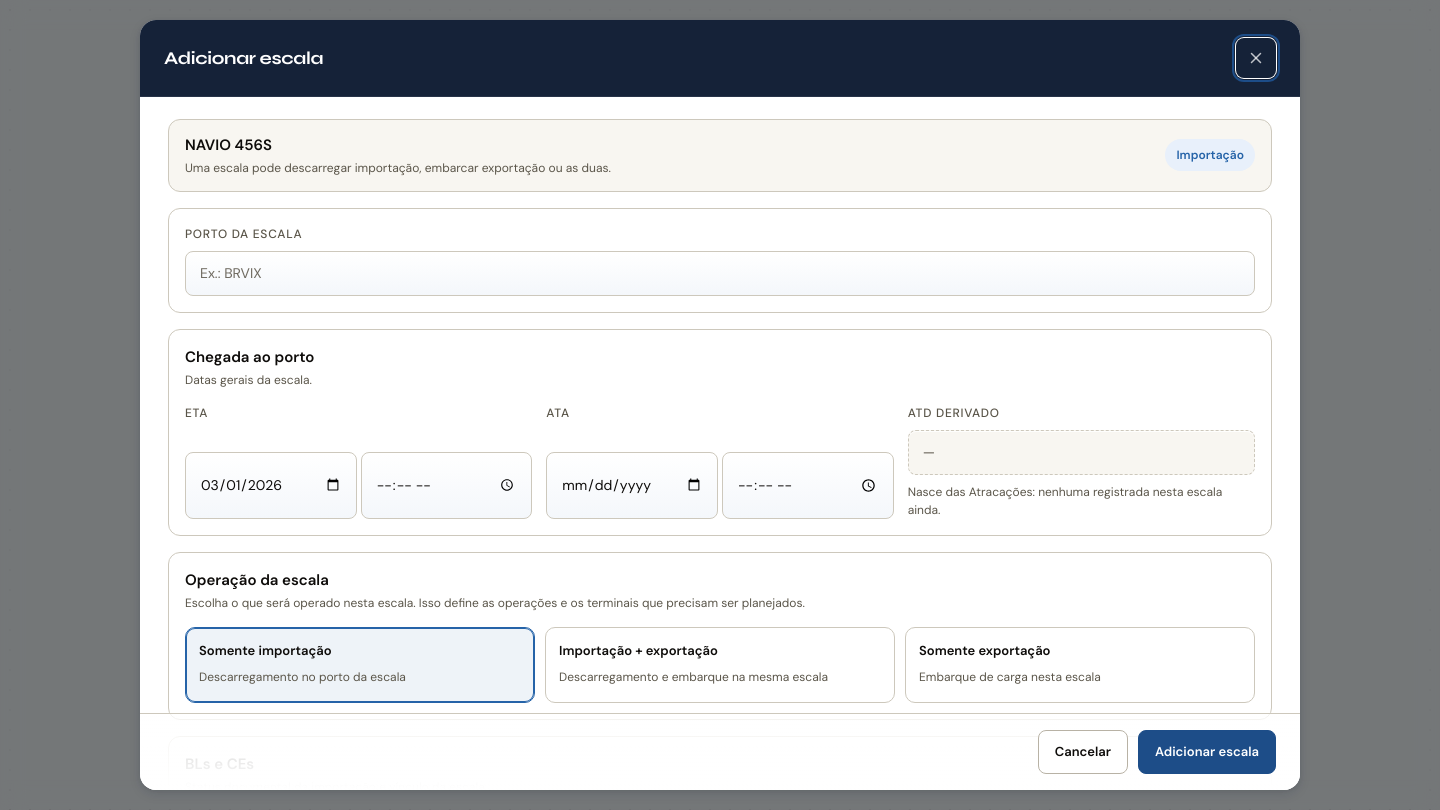
Test: EscalaModal › recusa porto estrangeiro ao criar a escala
Type "CNSHA" into the field labelled "Porto da escala" at (720, 273), box top-left (185, 251), bottom-right (1255, 296)
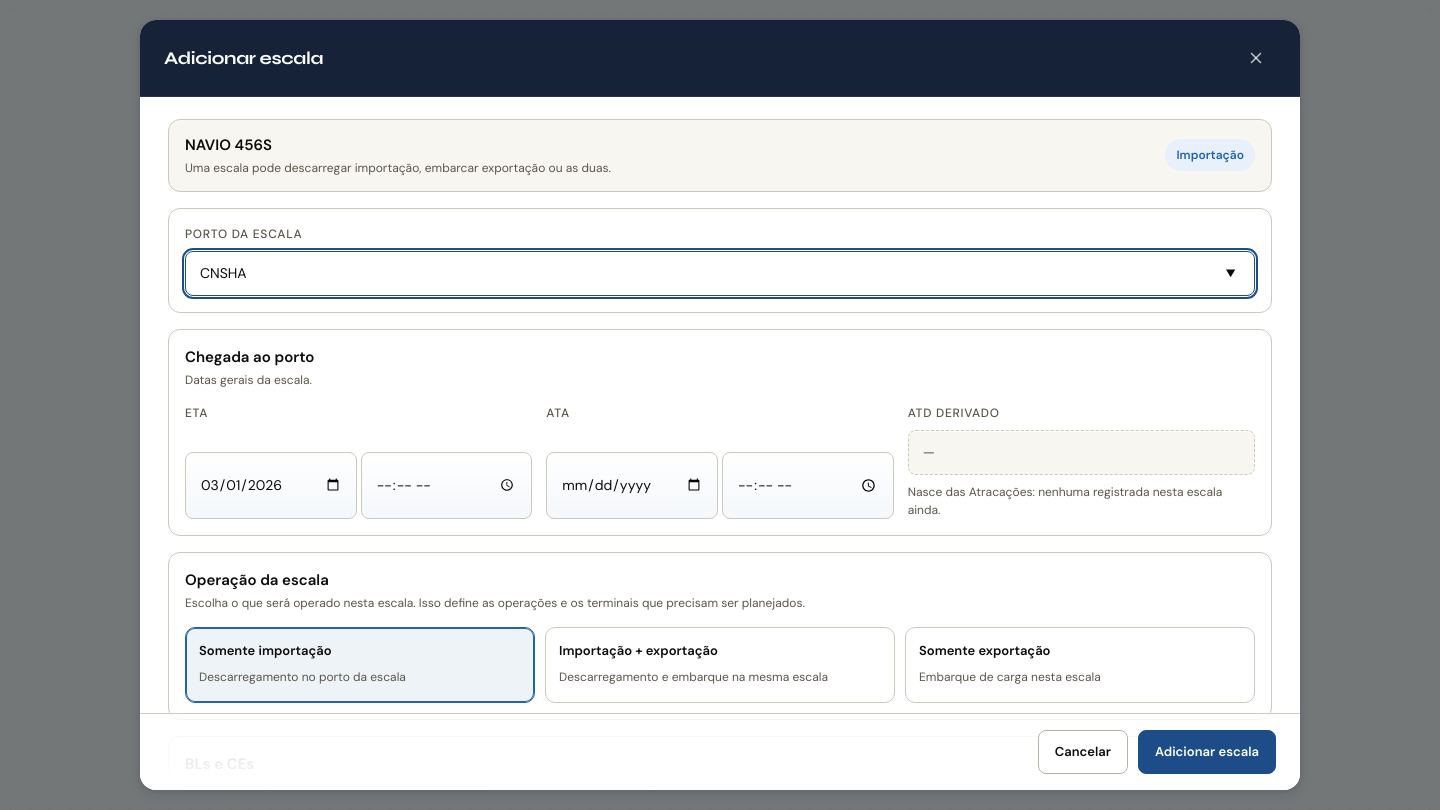
Click the button "Adicionar escala" at (1207, 752), box top-left (1138, 730), bottom-right (1276, 774)
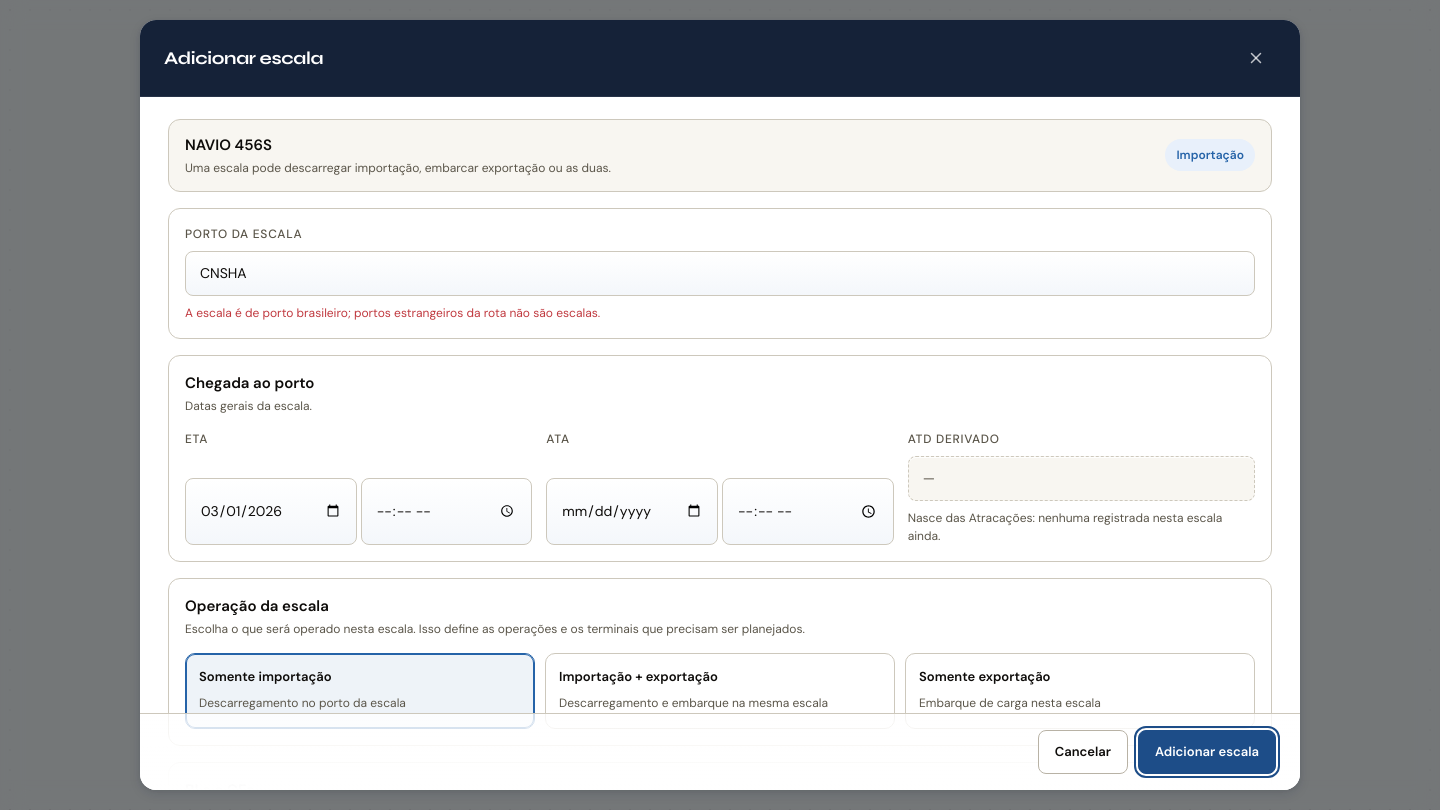
Expected: the message shows "porto brasileiro", top-left (185, 305), bottom-right (600, 321)
